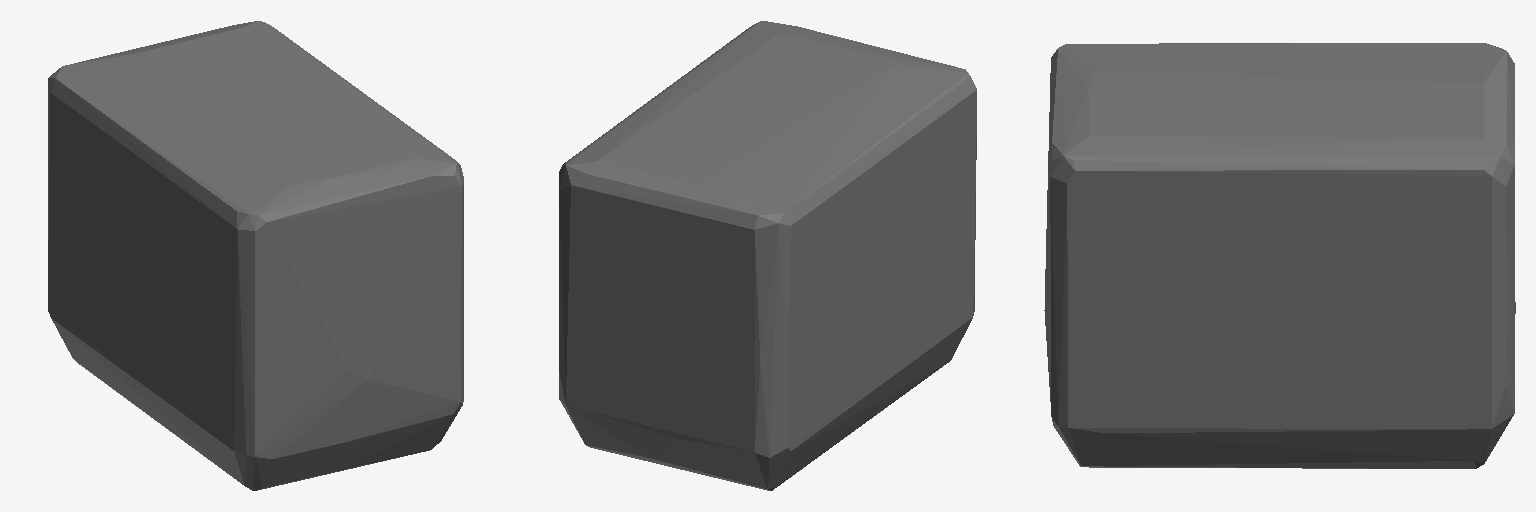
The robot description file, URDF, robot "toaster_010":
<?xml version="1.0" ?>
<robot name="toaster_010">
  <material name="color">
    <color rgba=".5 .5 .5 1"/>
  </material>

  <link name="base_link">
    <contact>
      <lateral_friction value="1.0"/>
      <rolling_friction value="0.001"/>
      <spinning_friction value="0.001"/>
      <inertia_scaling value="1.0"/>
    </contact>
    <inertial>
      <origin rpy="0 0 0" xyz="-0.000772437 0.00869732 0.00782285"/>
       <mass value="0.1"/>
       <inertia ixx="1" ixy="0" ixz="0" iyy="1" iyz="0" izz="1"/>
    </inertial>

    <visual>
      <origin rpy="0 0 0" xyz="0 0 0"/>
      <geometry>
        <mesh filename="toaster_010_vhacd_0_of_1.obj" scale="1 1 1"/>
      </geometry>
      <material name="color"/>
    </visual>

    <collision>
      <origin rpy="0 0 0" xyz="0 0 0"/>
      <geometry>
        <mesh filename="toaster_010_vhacd_0_of_1.obj" scale="1 1 1"/>
      </geometry>
    </collision>

  </link>
</robot>

--- What the picture shows (computed from the rendered views, not written in the file) ---
Views: 3 orthographic renders of the robot side by side, from view 1: azimuth 30°, elevation 25°; view 2: azimuth 150°, elevation 25°; view 3: azimuth 270°, elevation 25°.
Robot: toaster_010 — 1 links, 0 joints (none); root link base_link; default pose: all joints at 0.
Links seen in each view (by area): view 1: base_link; view 2: base_link; view 3: base_link.
Link boxes in pixels (<box>): base_link: <box>48,21,463,490</box>; base_link: <box>559,21,976,490</box>; base_link: <box>1044,43,1515,468</box>.
Size in the robot's own frame: 0.174 by 0.2794 by 0.2133 metres.
1 mesh visuals loaded from 1 distinct referenced files (1 OBJ).